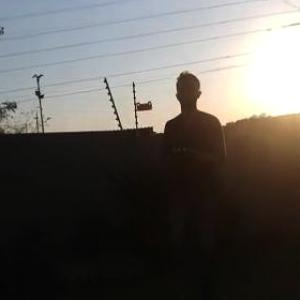follow: (157, 66, 234, 299)
